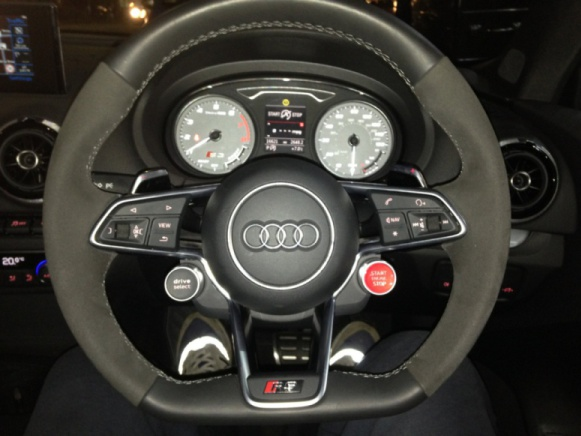audi: (240, 220, 323, 254)
